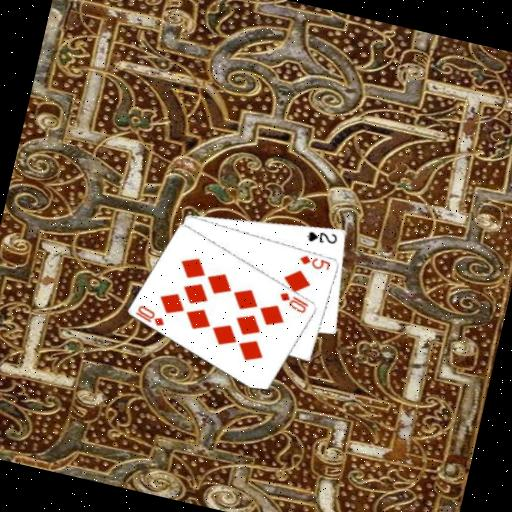10D: (131, 300, 170, 329), (274, 288, 312, 317)
2S: (303, 225, 341, 249)
5D: (296, 251, 333, 273)
